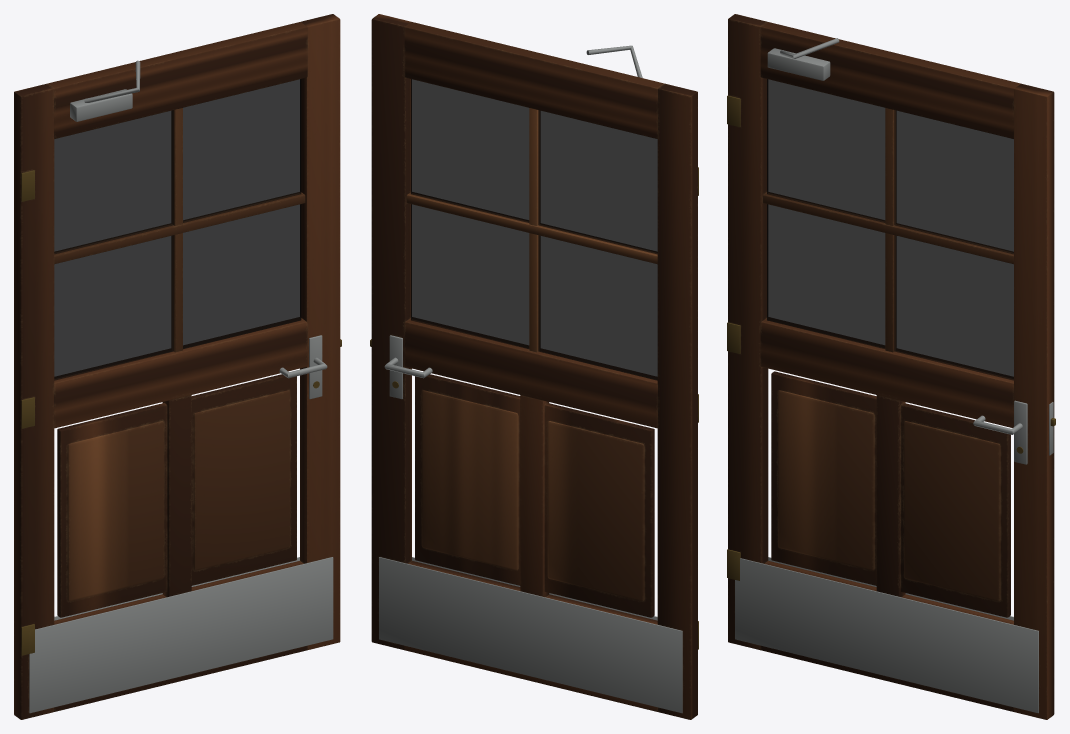
Rendered from CTCC_ENV_WardDoorLeaf.fbx.
3 renders of one model, left to right at view 1: azimuth 30°, elevation 25°; view 2: azimuth 150°, elevation 25°; view 3: azimuth 330°, elevation 25°, orthographic.
Visible parts, largest first — view 1: CTCC_ENV_WardDoorLeaf_LOD0; view 2: CTCC_ENV_WardDoorLeaf_LOD0; view 3: CTCC_ENV_WardDoorLeaf_LOD0.
Part boxes in pixels (x1,y1,x2,y2): CTCC_ENV_WardDoorLeaf_LOD0: [14, 14, 341, 719]; CTCC_ENV_WardDoorLeaf_LOD0: [370, 14, 698, 719]; CTCC_ENV_WardDoorLeaf_LOD0: [727, 14, 1055, 719].
Size of what is drawn, in the model's own units: 1.19 by 2.24 by 0.2826.
